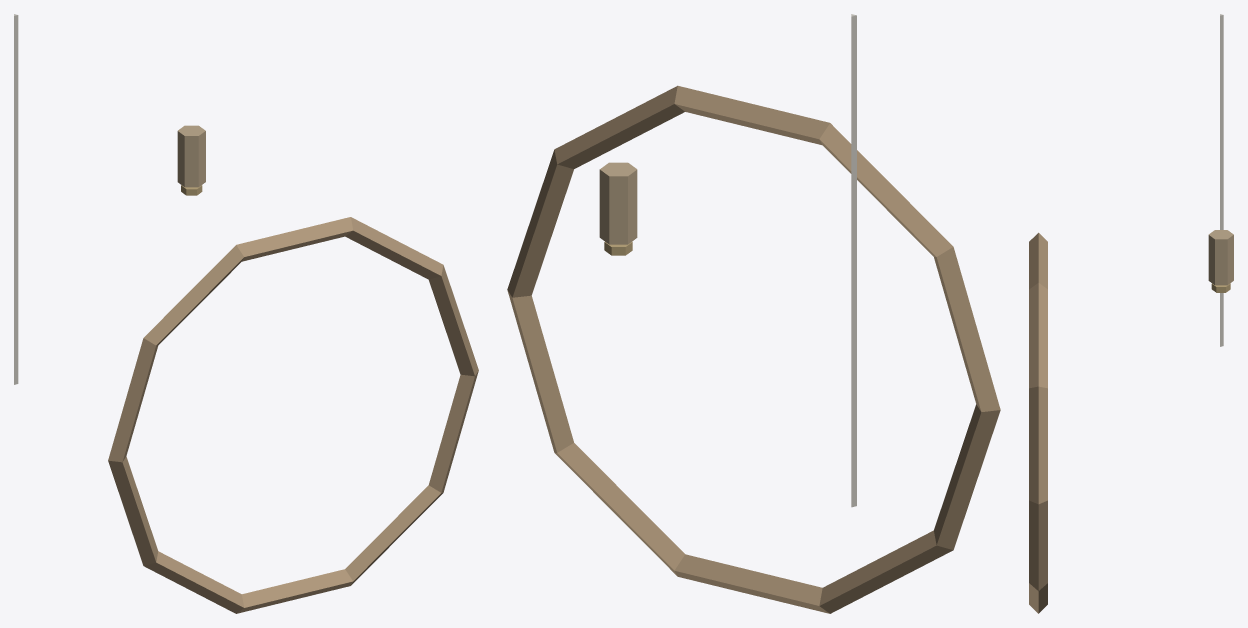
Rendered from starbow.glb.
3 views of the same model, side by side, from view 1: azimuth 30°, elevation 25°; view 2: azimuth 150°, elevation 25°; view 3: azimuth 270°, elevation 25° (orthographic). The views are drawn at different scales.
Parts seen in each view (by area): view 1: starbow; view 2: starbow; view 3: starbow.
Boxes of the visible parts, left/top/right/bottom form: starbow: left=14, top=14, right=478, bottom=613; starbow: left=507, top=14, right=1000, bottom=613; starbow: left=1029, top=14, right=1233, bottom=613.
Bounding box in the file's own units: 1.21 × 1.73 × 0.645.
